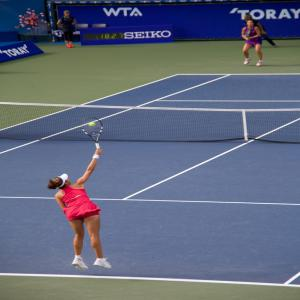TennisBall: (90, 124, 97, 128)
